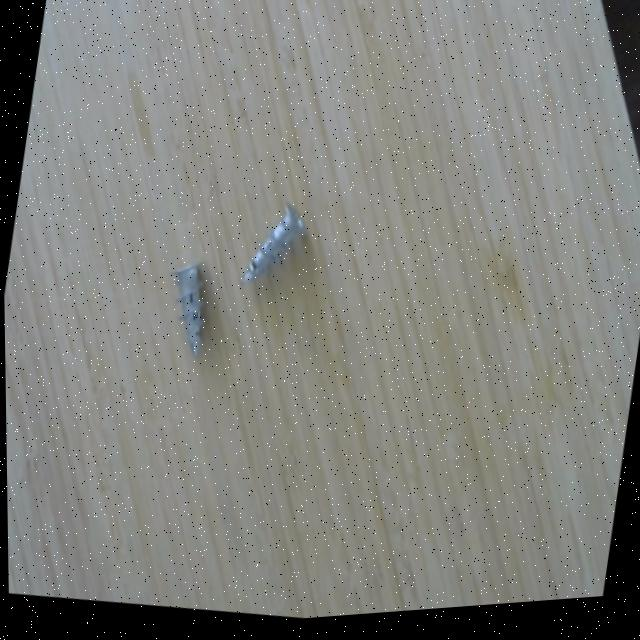Short screw: (236, 193, 317, 304), (154, 251, 225, 370)
